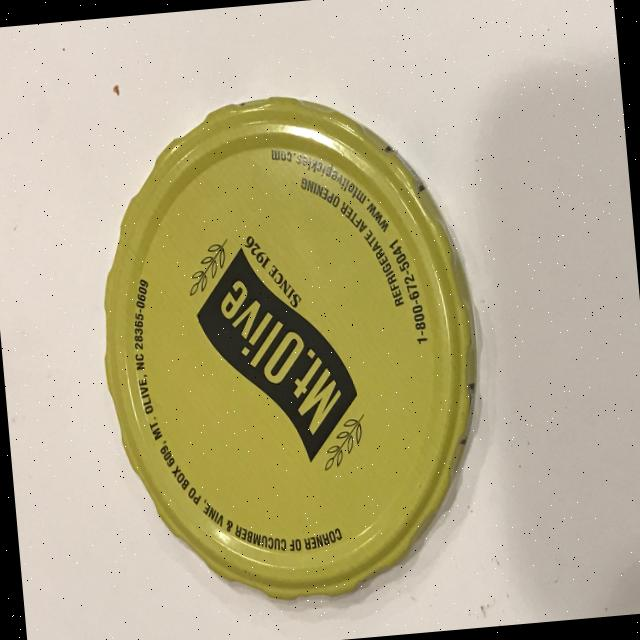metal: (81, 78, 499, 615)
